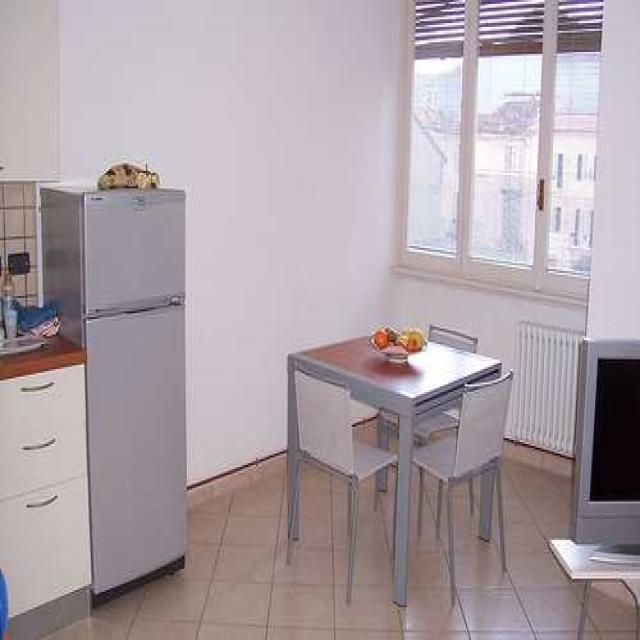refrigerator: (78, 166, 189, 627)
